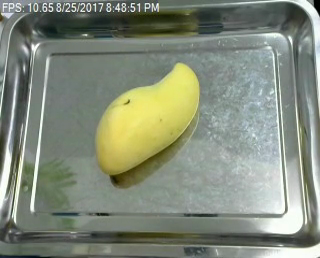Mango: (93, 58, 202, 181)
